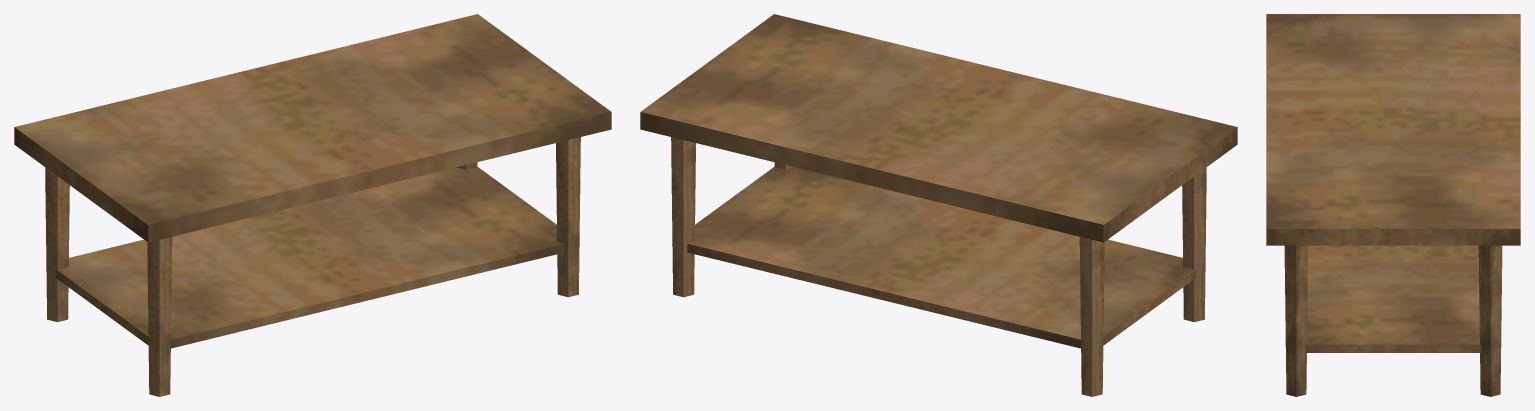
Rendered from coffee_table_oak.obj.
The picture shows the model from 3 angles, left to right: view 1: azimuth 30°, elevation 25°; view 2: azimuth 150°, elevation 25°; view 3: azimuth 270°, elevation 25°; orthographic projection. The views are drawn at different scales.
Visible parts, largest first — view 1: coffee_table_oak; view 2: coffee_table_oak; view 3: coffee_table_oak.
Boxes of the visible parts, x1,y1,x2,y2 form: coffee_table_oak: (14,14,611,396); coffee_table_oak: (640,14,1237,396); coffee_table_oak: (1266,14,1520,396).
Bounding box in the file's own units: 1.1 × 0.42 × 0.55.
1 material, 1 textured.
